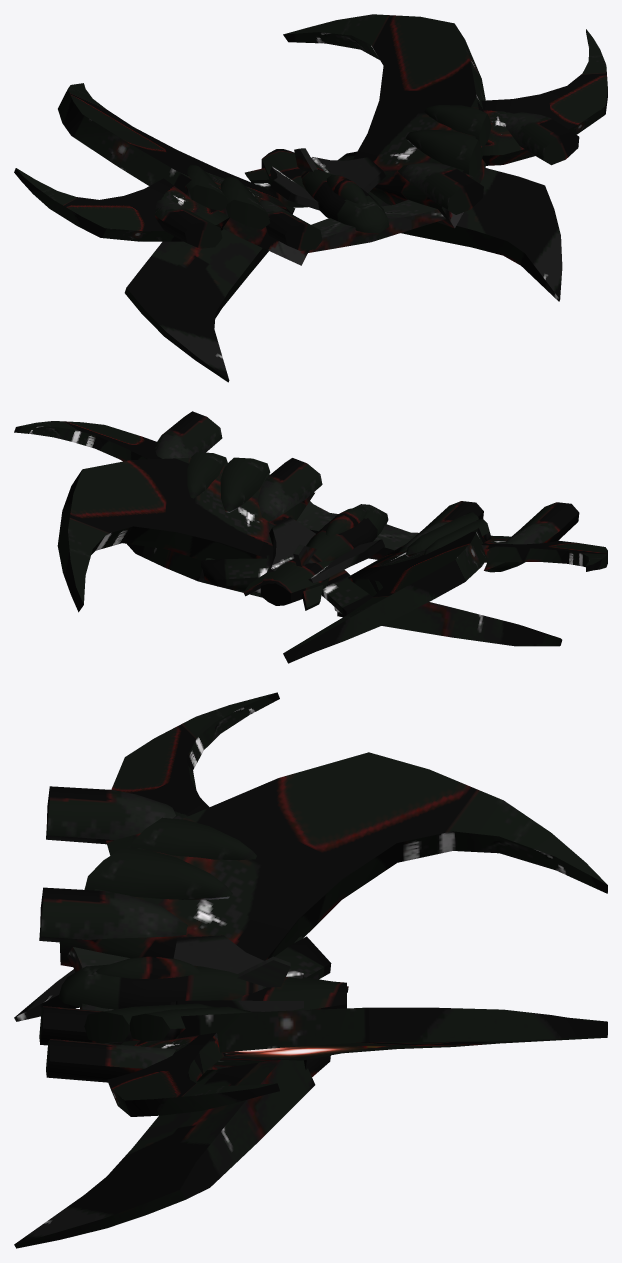
File: Deathstalker.fbx
3 renders of one model, top to bottom at view 1: azimuth 30°, elevation 25°; view 2: azimuth 150°, elevation 25°; view 3: azimuth 270°, elevation 25°, orthographic. The views are drawn at different scales.
Visible parts, largest first — view 1: 00_Core, 03_FrontRight, 01_FrontLeft, 04_RearRight, 02_RearLEft; view 2: 00_Core, 02_RearLEft, 03_FrontRight, 04_RearRight, 01_FrontLeft; view 3: 00_Core, 02_RearLEft, 01_FrontLeft, 03_FrontRight, 04_RearRight.
Boxes of the visible parts, x1,y1,x2,y2 form: 00_Core: [119, 23, 562, 382]; 03_FrontRight: [481, 29, 607, 165]; 01_FrontLeft: [14, 168, 229, 248]; 04_RearRight: [283, 14, 453, 65]; 02_RearLEft: [58, 83, 217, 168]; 00_Core: [82, 452, 562, 646]; 02_RearLEft: [283, 543, 481, 663]; 03_FrontRight: [14, 411, 222, 461]; 04_RearRight: [57, 469, 133, 612]; 01_FrontLeft: [481, 502, 607, 572]; 00_Core: [14, 778, 396, 1248]; 02_RearLEft: [278, 752, 607, 937]; 01_FrontLeft: [46, 692, 279, 855]; 03_FrontRight: [46, 1032, 279, 1116]; 04_RearRight: [369, 1007, 607, 1048].
Size of the model in its own units: 34452 by 10459 by 22048.
Materials: 1 (1 with a texture image).
